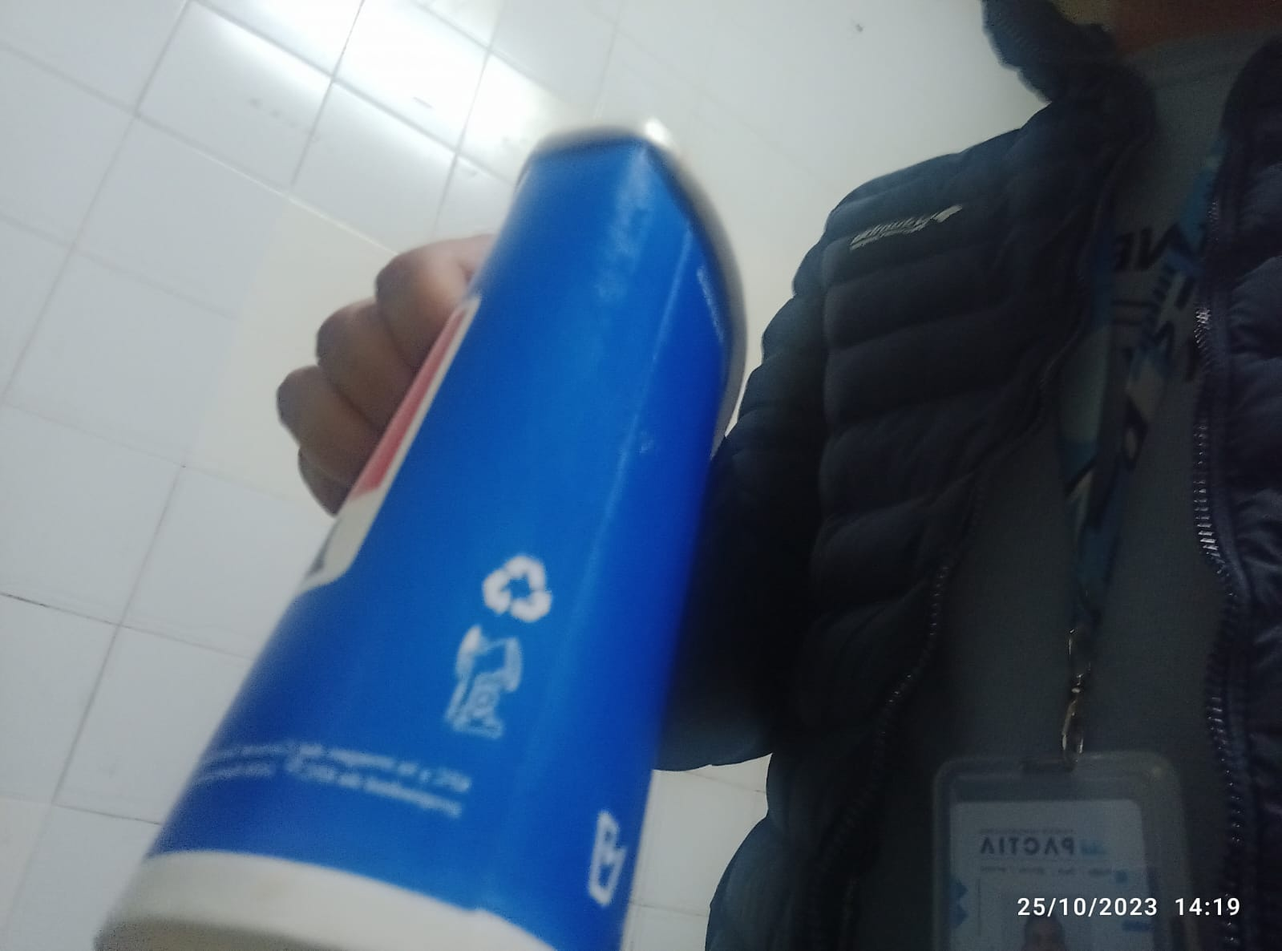Carton: (90, 113, 748, 951)
